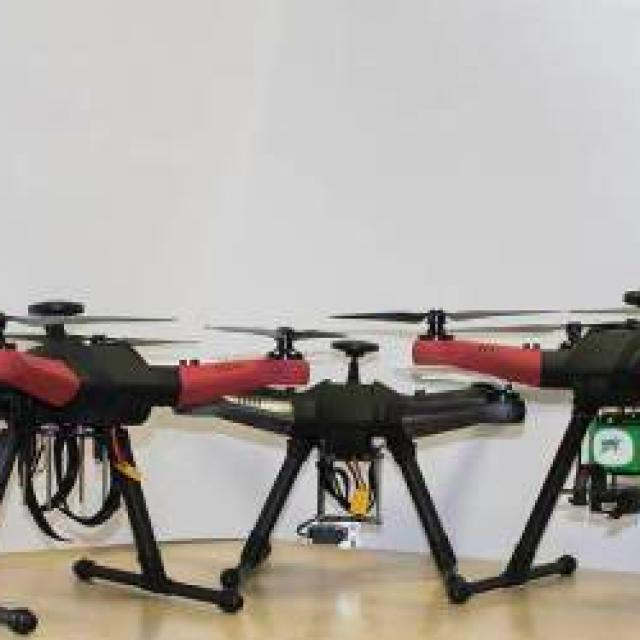drone: (0, 275, 356, 533), (327, 283, 640, 426)
